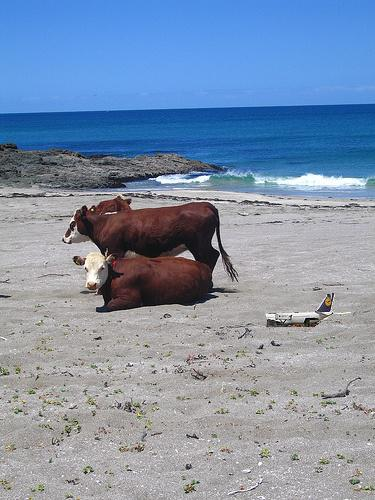tampered: (266, 294, 351, 327)
